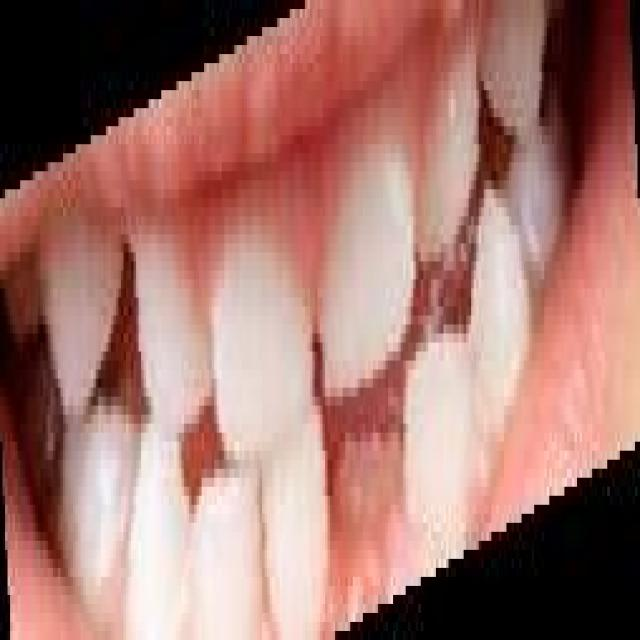caries: (335, 399, 412, 557)
